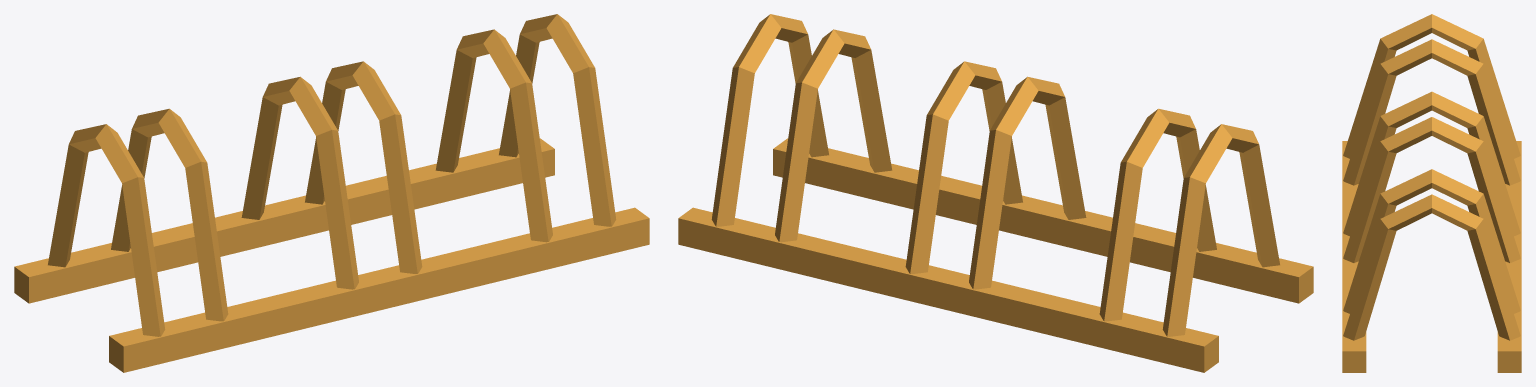
Rendered from bike-stand.glb.
3 renders of one model, left to right at view 1: azimuth 30°, elevation 25°; view 2: azimuth 150°, elevation 25°; view 3: azimuth 270°, elevation 25°, orthographic. The views are drawn at different scales.
Visible parts, largest first — view 1: bike-stand; view 2: bike-stand; view 3: bike-stand.
Boxes of the visible parts, x1=… form: bike-stand: x1=14, y1=14, x2=649, y2=372; bike-stand: x1=678, y1=14, x2=1313, y2=372; bike-stand: x1=1342, y1=14, x2=1521, y2=372.
Bounding box in the file's own units: 1.1 × 0.3994 × 0.396.
